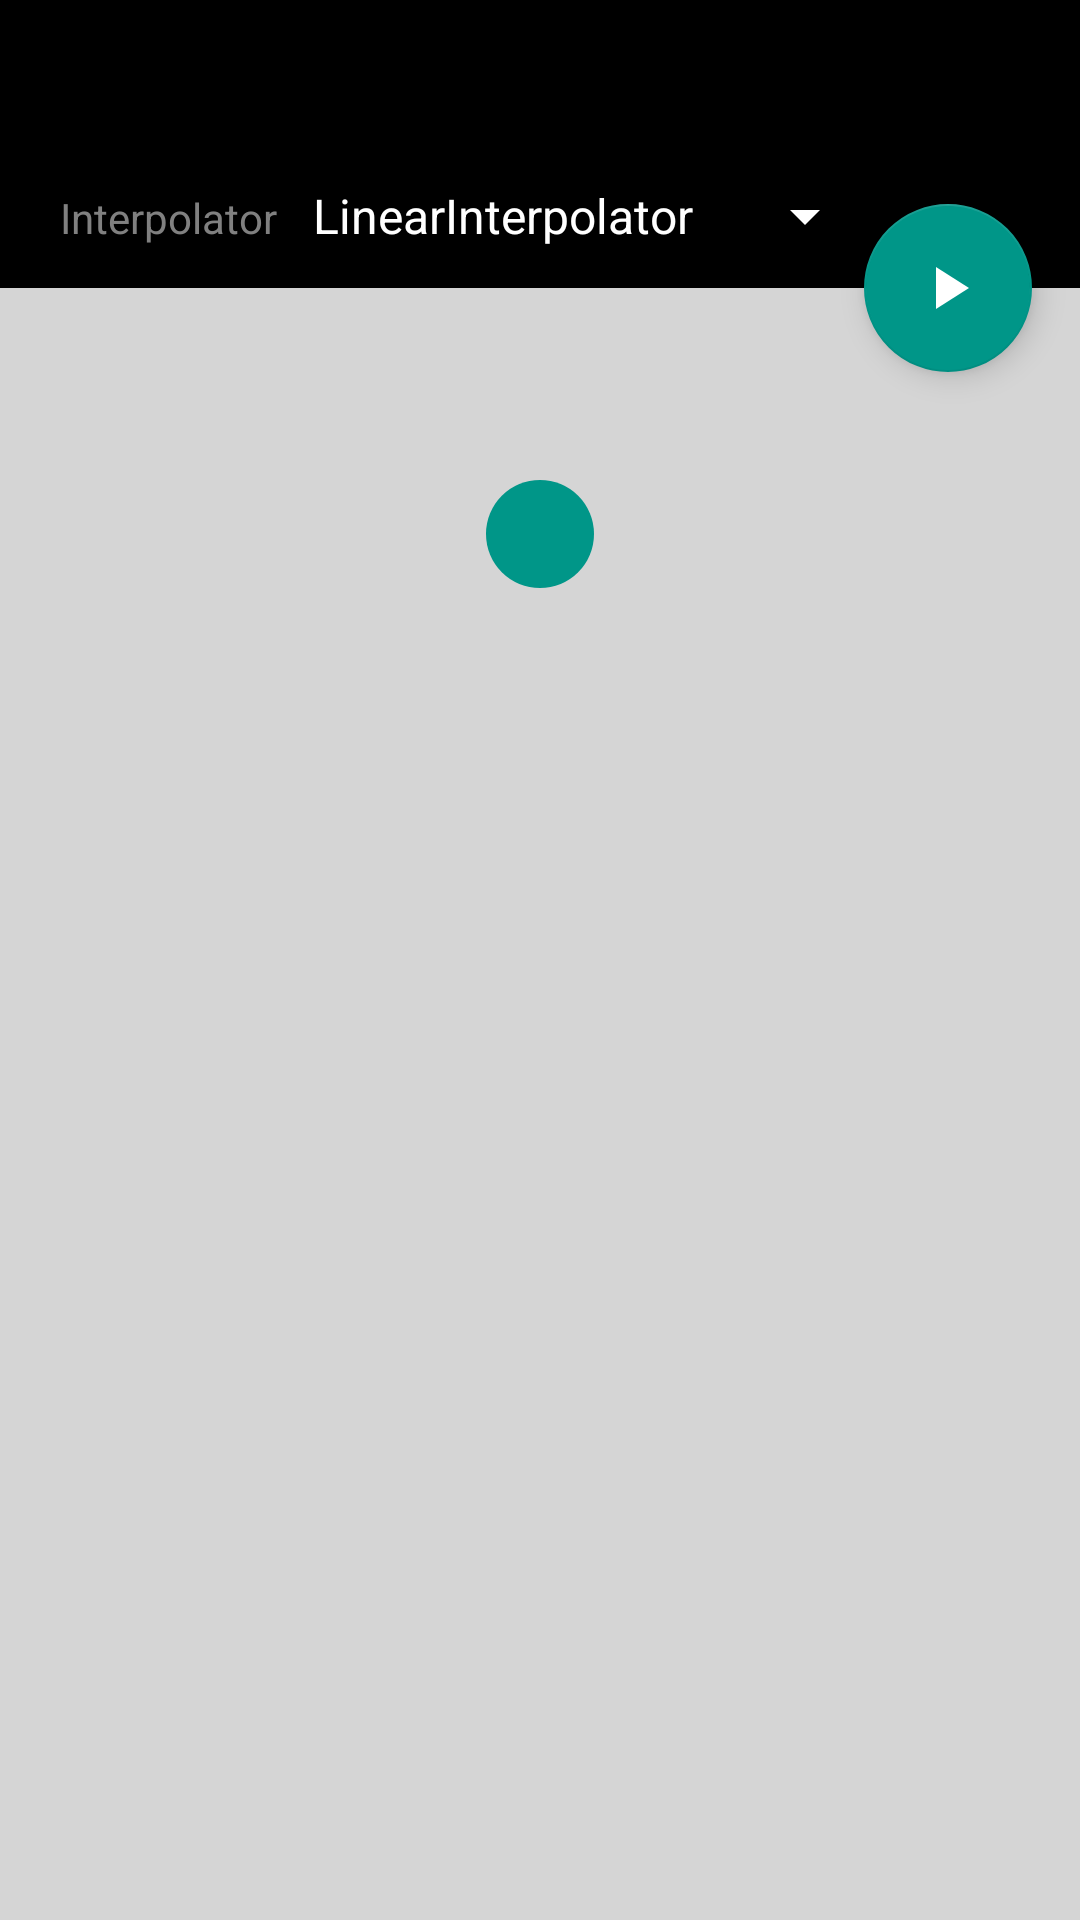

Named icons in this screenshot (1080px x 1920px) and their centers, (x,y):
play: (948,288)
